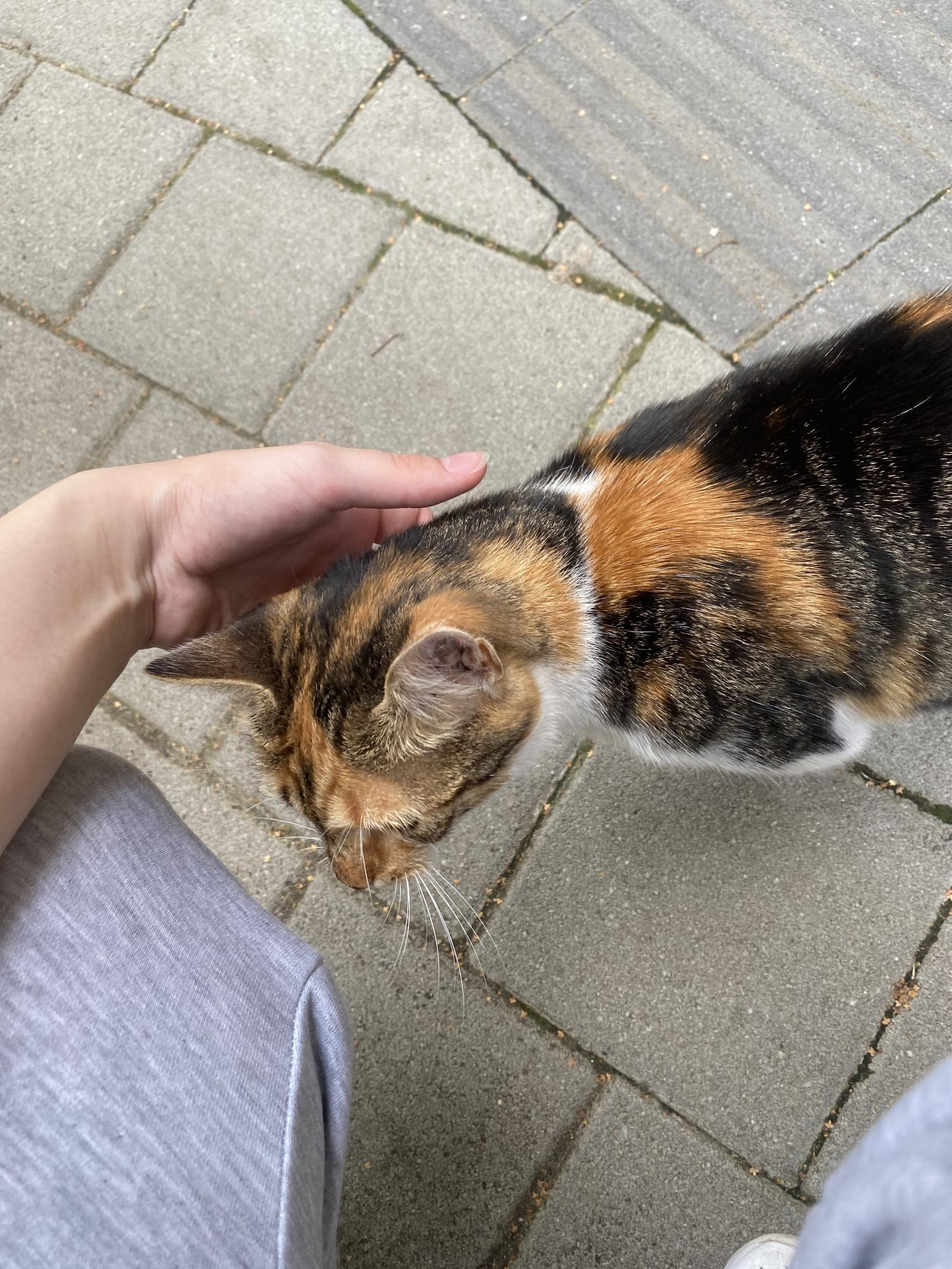macka: (145, 275, 952, 905)
